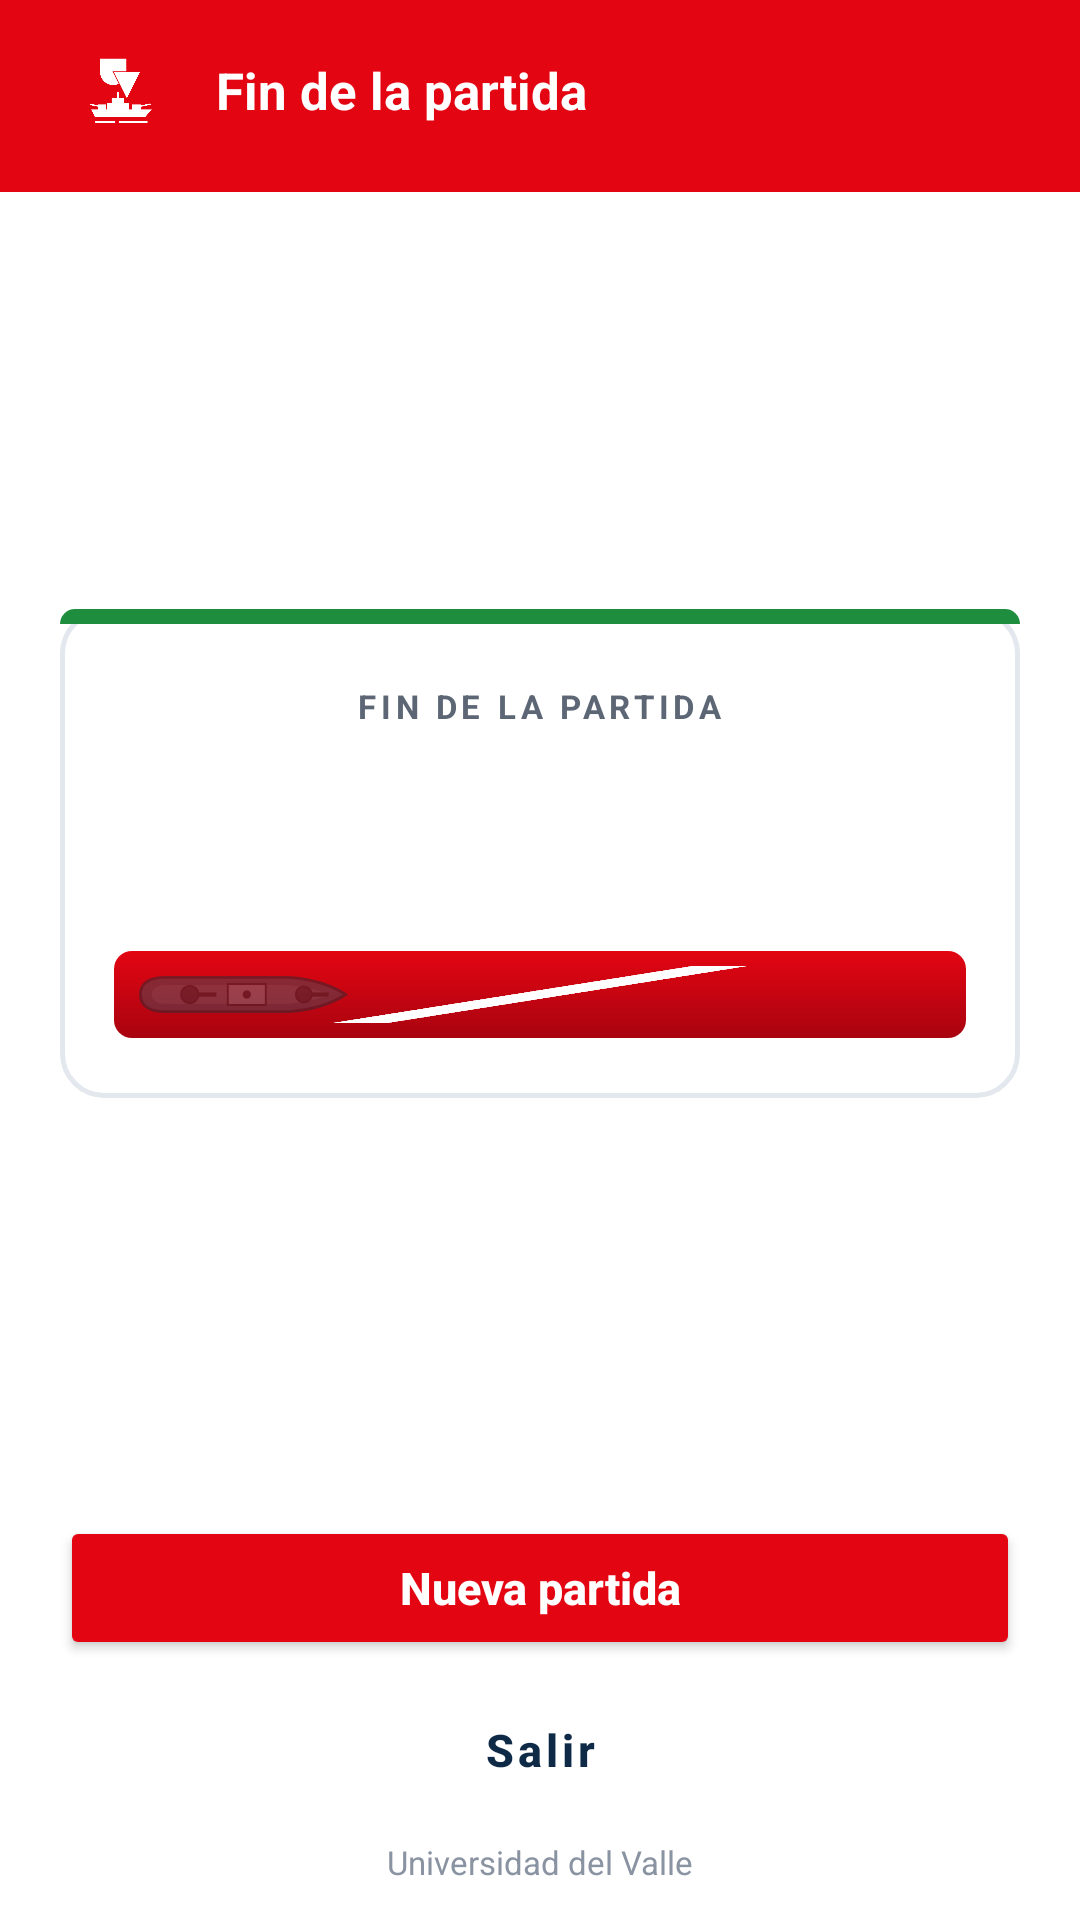

Where to tap for icons on this 1080 x 1920 app screen, as point (x, y):
Acorazado (4): point (243, 994)
